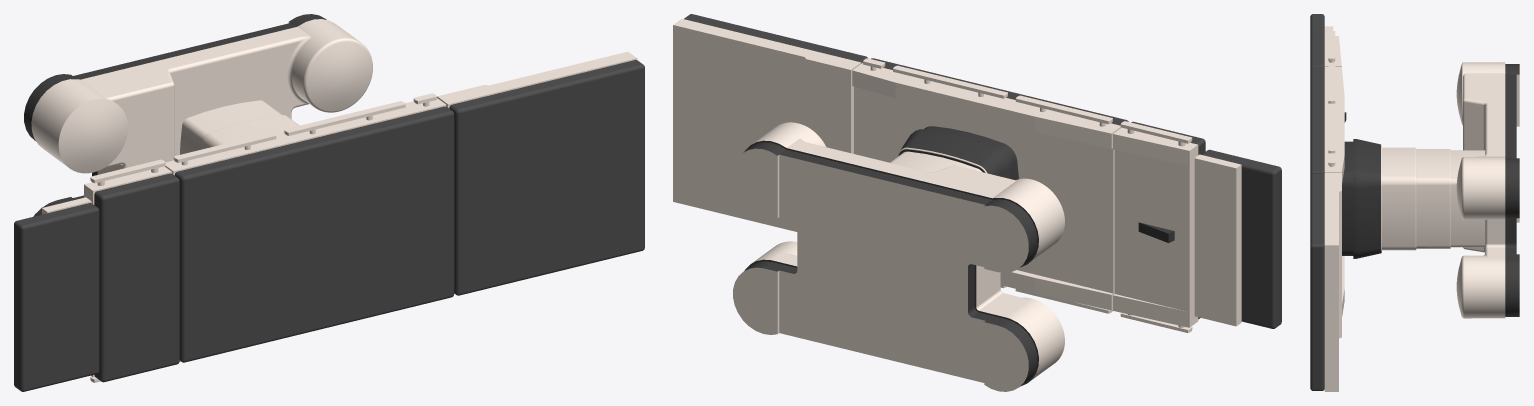
The model's file is operating_table.dae.
3 renders of one model, left to right at view 1: azimuth 30°, elevation 25°; view 2: azimuth 150°, elevation 25°; view 3: azimuth 270°, elevation 25°, orthographic. The views are drawn at different scales.
Visible parts, largest first — view 1: _ncl1_4, FBXASC0482Junho21MedicalFBXASC032OperatingFBXASC032Table, _ncl1_2; view 2: FBXASC0482Junho21MedicalFBXASC032OperatingFBXASC032Table, _ncl1_4, _ncl1_2; view 3: FBXASC0482Junho21MedicalFBXASC032OperatingFBXASC032Table, _ncl1_2, _ncl1_4.
Part boxes in pixels (x1=…): _ncl1_4: x1=14, y1=60, x2=644, y2=391; FBXASC0482Junho21MedicalFBXASC032OperatingFBXASC032Table: x1=31, y1=19, x2=637, y2=382; _ncl1_2: x1=24, y1=14, x2=326, y2=216; FBXASC0482Junho21MedicalFBXASC032OperatingFBXASC032Table: x1=673, y1=18, x2=1241, y2=391; _ncl1_4: x1=684, y1=14, x2=1281, y2=328; _ncl1_2: x1=743, y1=126, x2=1174, y2=386; FBXASC0482Junho21MedicalFBXASC032OperatingFBXASC032Table: x1=1324, y1=26, x2=1519, y2=391; _ncl1_2: x1=1342, y1=64, x2=1519, y2=316; _ncl1_4: x1=1310, y1=14, x2=1324, y2=390.
Size of the model in its own units: 1.98 by 0.615 by 0.73.
